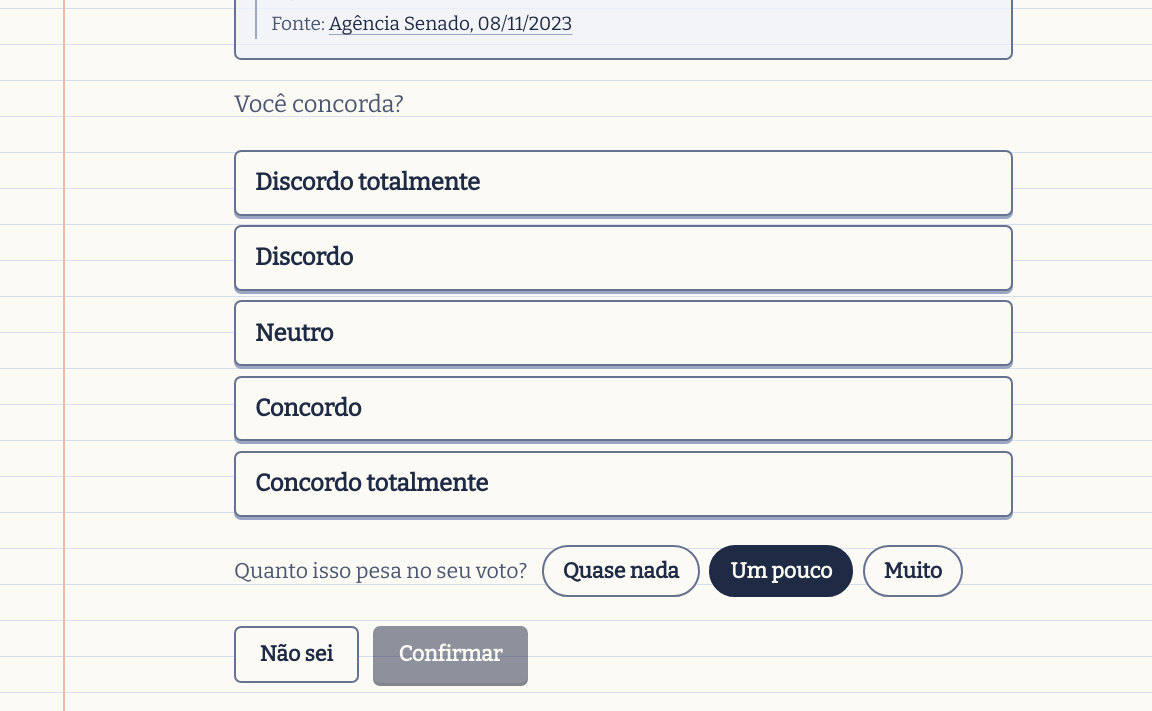
it: lesson flow › stores "Não sei" as a skip
(page scrolled)
What coordinates should you click on to do the following:
click the button "Não sei"
I would click on:
 (296, 654)
Its box is [234,626,359,683].
(page scrolled)
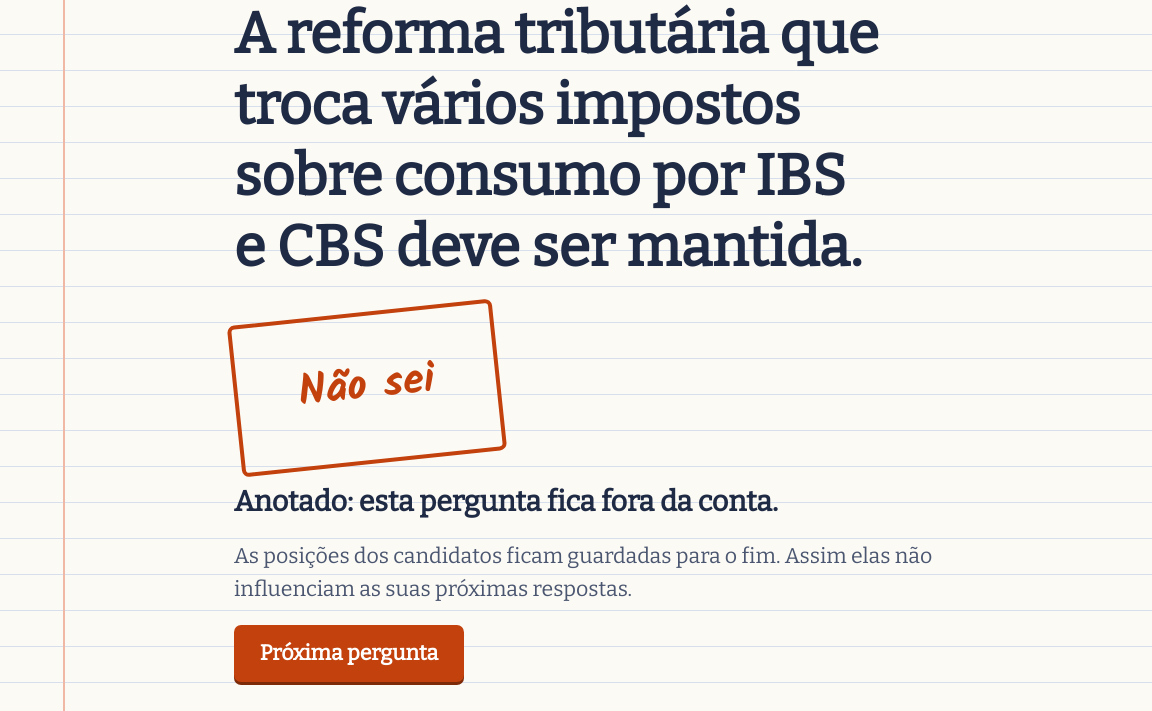
Expected: the text "Anotado: esta pergunta fica fora da conta." is shown, [234,483,778,521]
